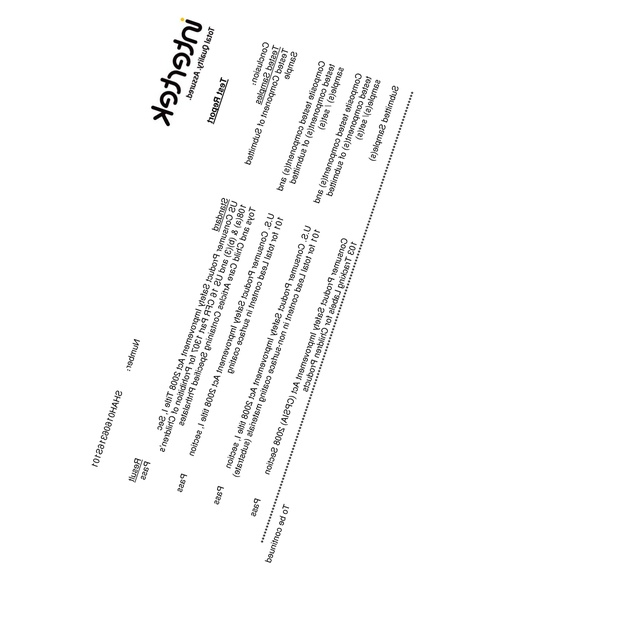intertek: (147, 12, 202, 127)
